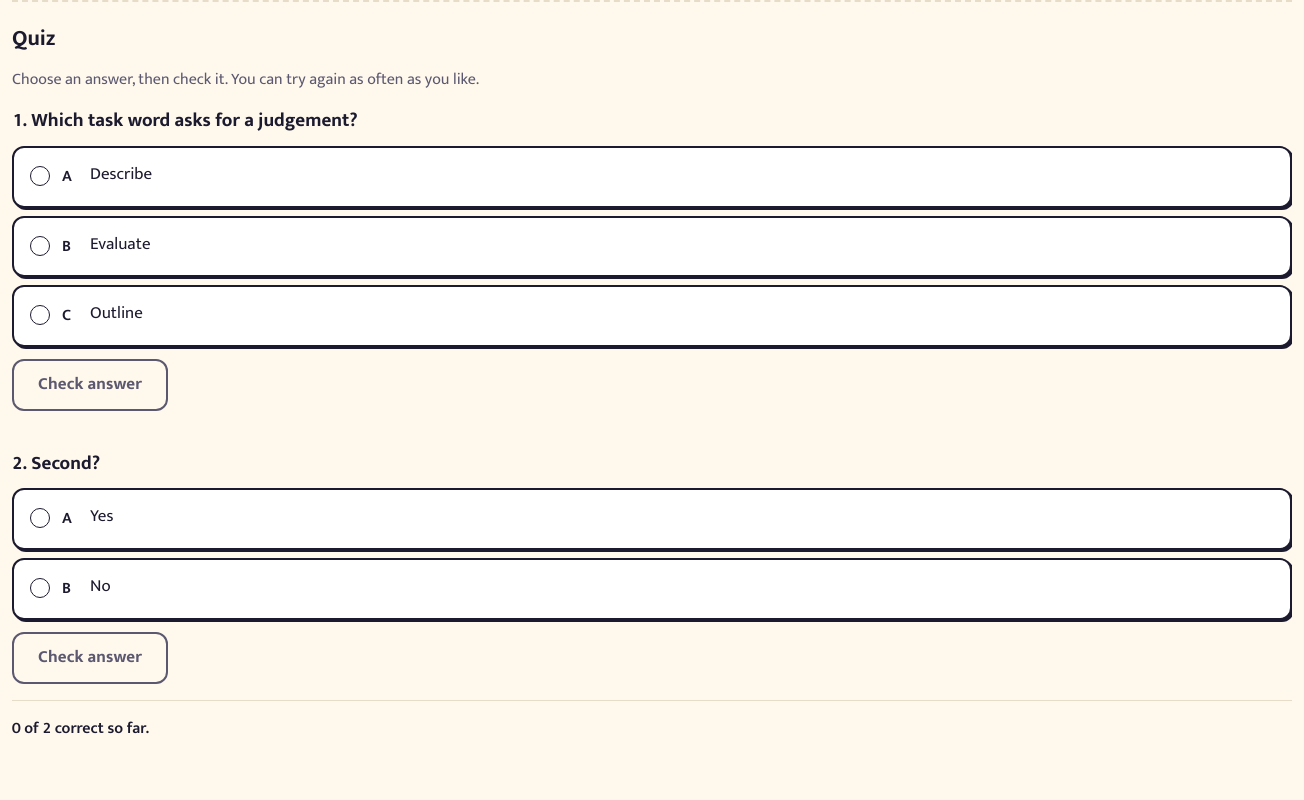
Scenario: Quiz › gives immediate feedback with words, allows retry, and then accepts the right answer
Click the radio button labelled "A Describe" at (121, 174), box [12,146,1292,208]
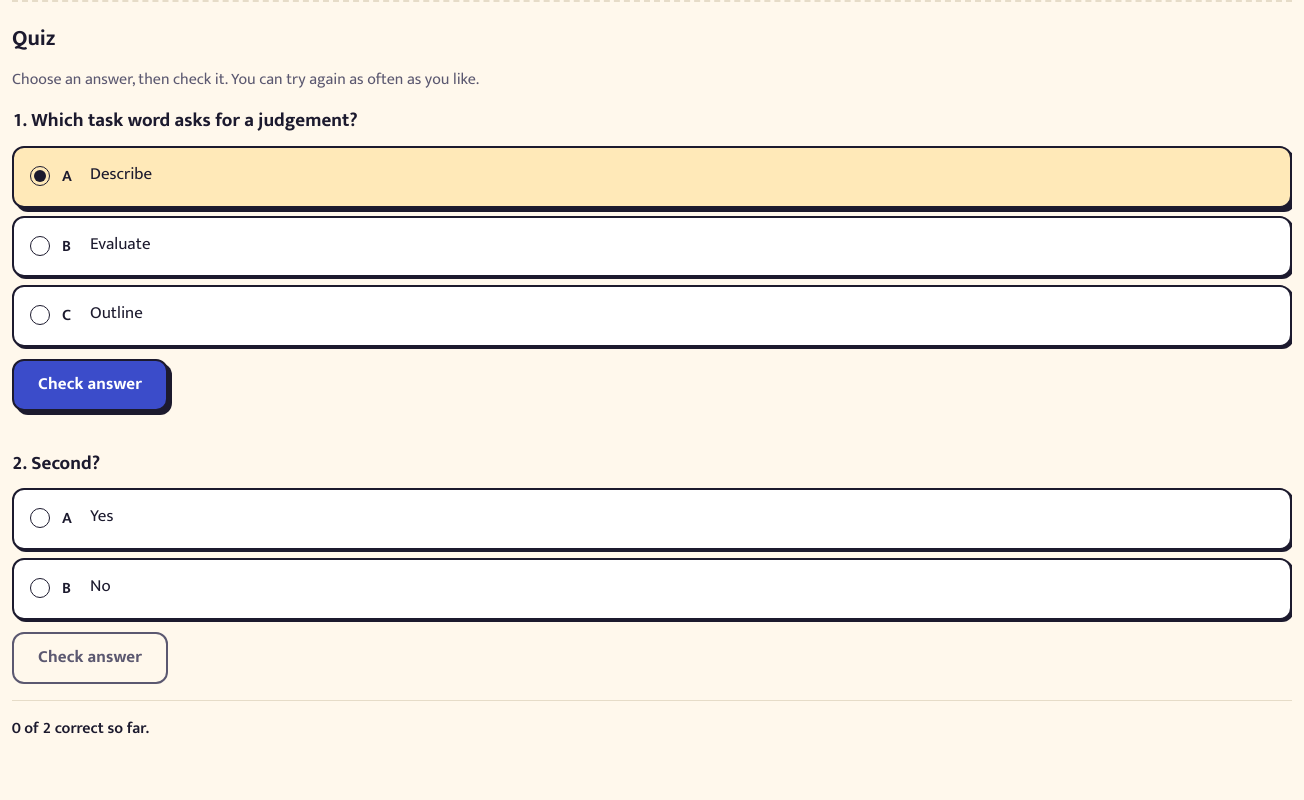
Click the button "Check answer" below "Which task word asks for a judgement?" at (90, 385), box [12,359,168,411]
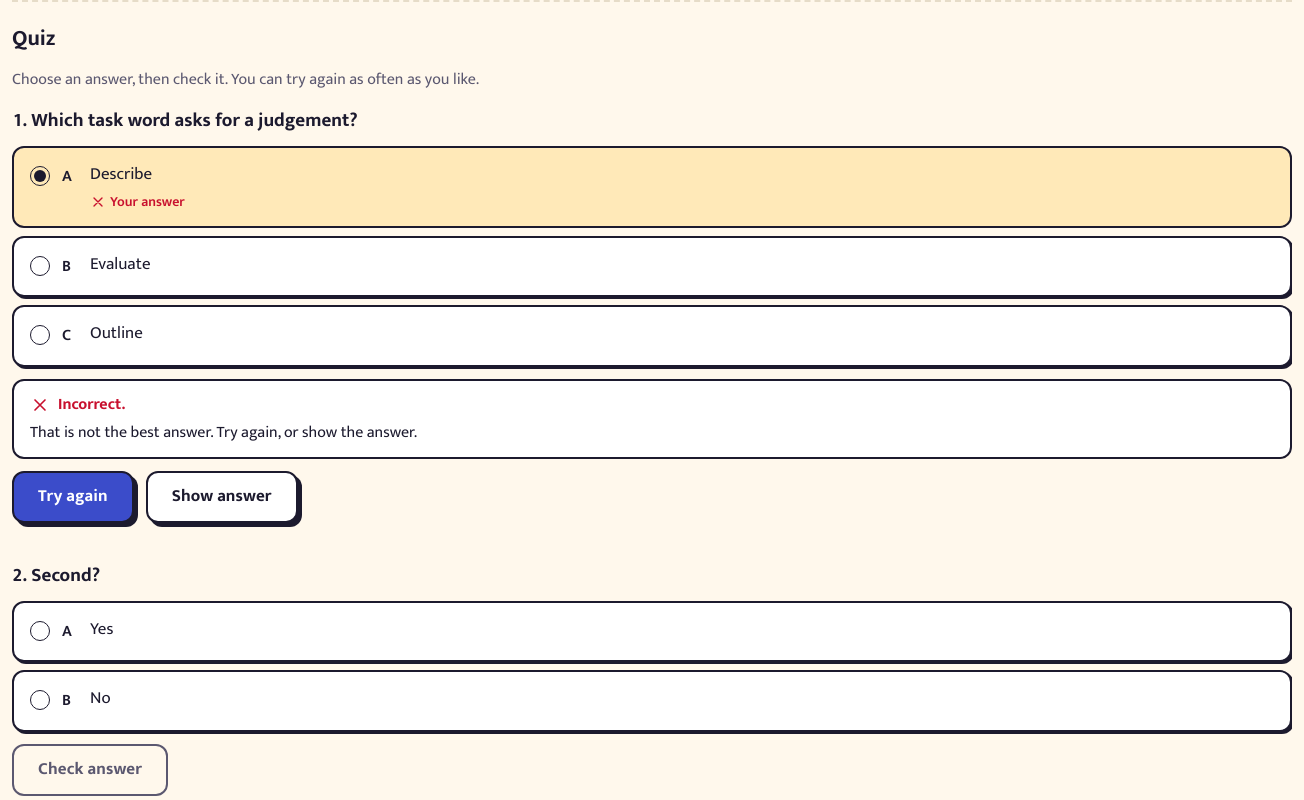
Check: the message shows "Incorrect.", box [58,391,125,418]
Check: the text "Your answer" is shown, box [90,190,185,212]
Click the button "Try again" at (73, 497), box [12,471,134,523]
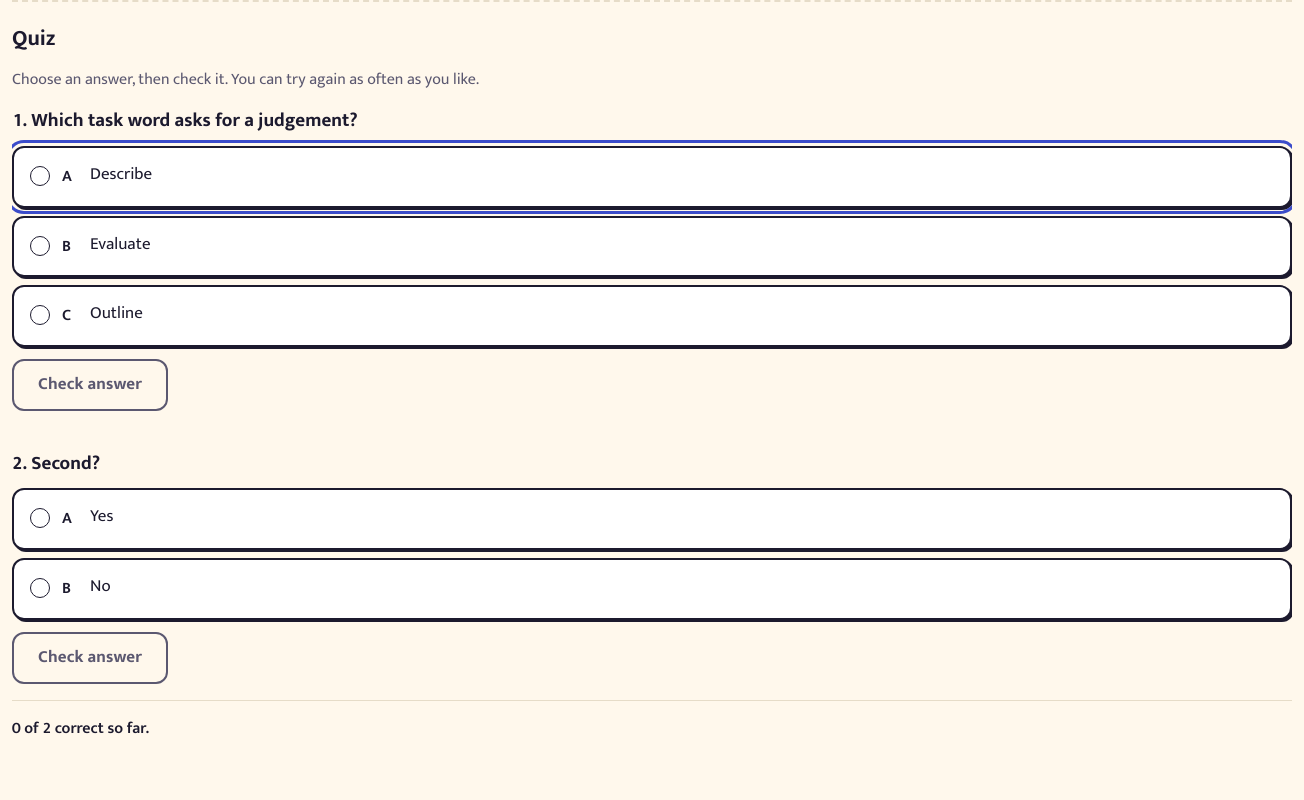
Click the radio button labelled "B Evaluate" at (120, 244), box [12,216,1292,277]
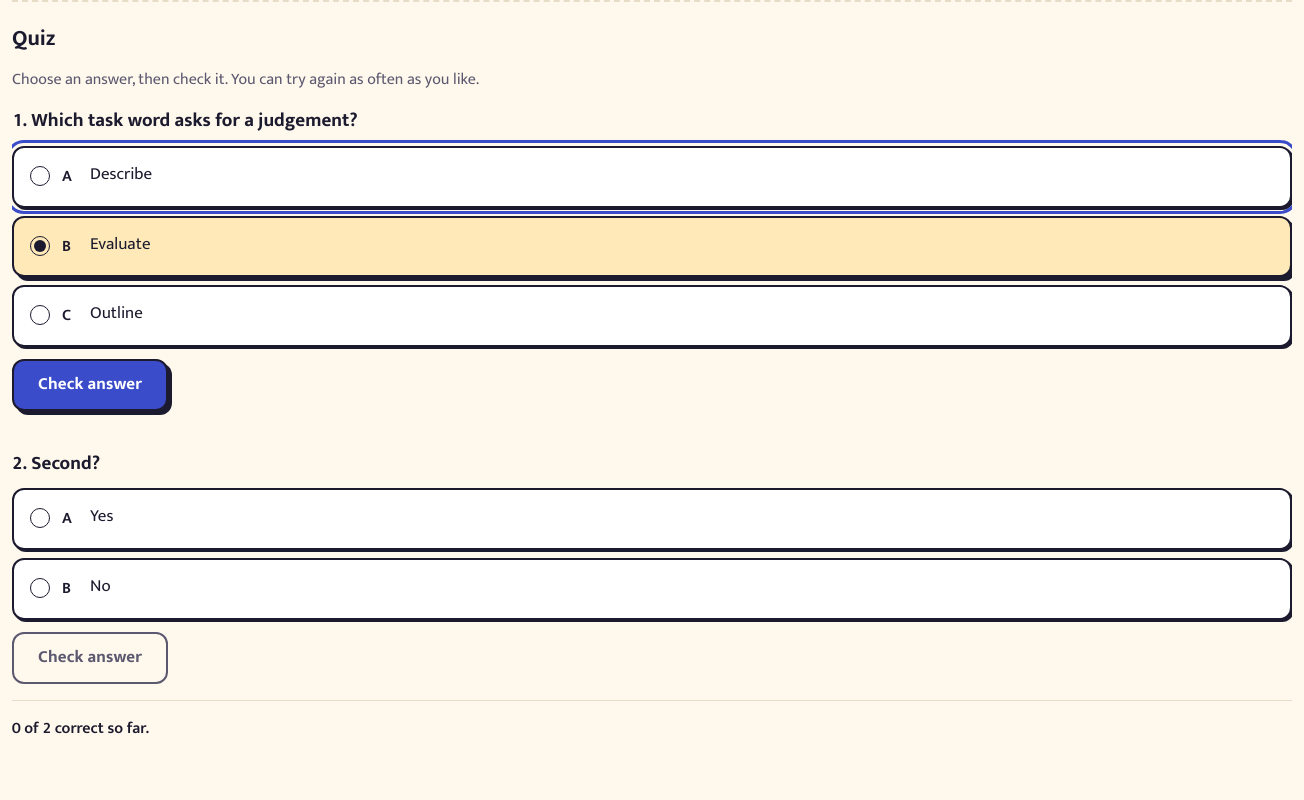
Click the button "Check answer" below "Which task word asks for a judgement?" at (90, 385), box [12,359,168,411]
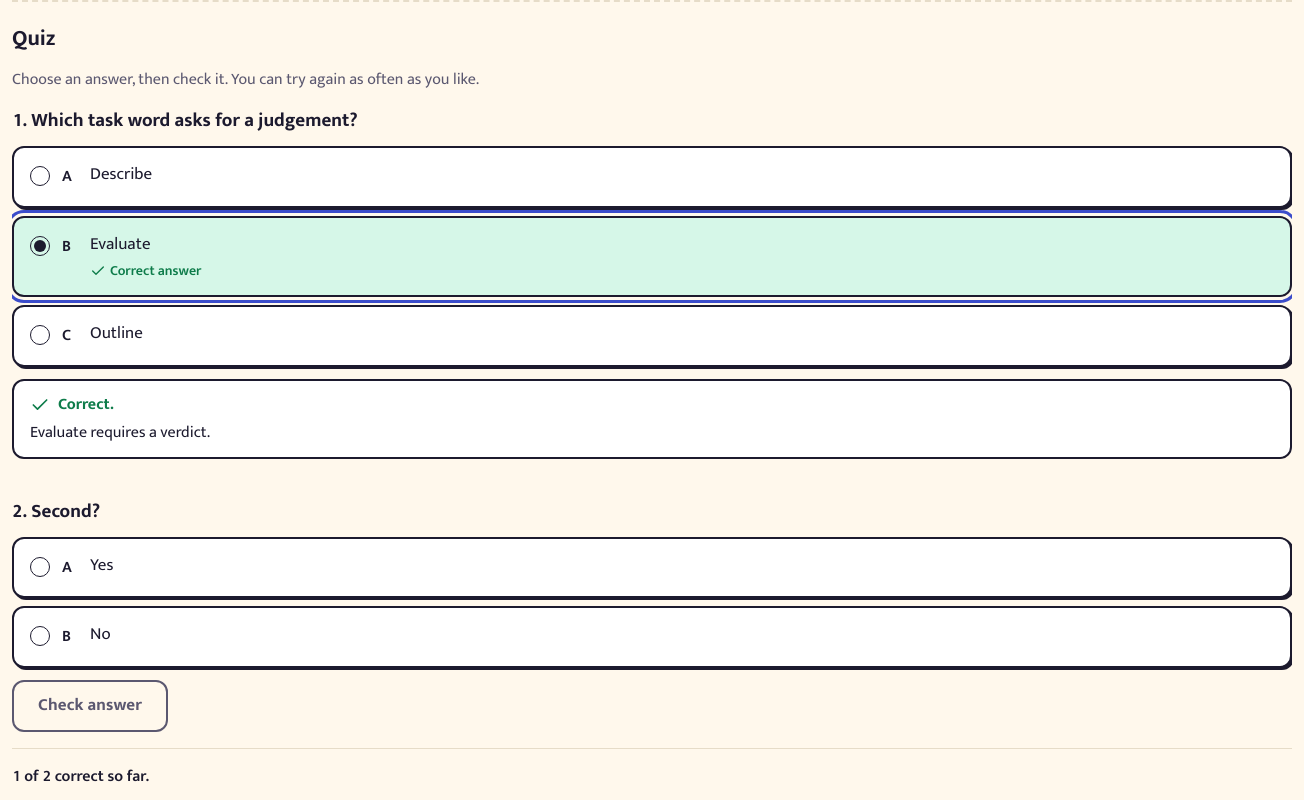
Check: the message reads "Correct. Evaluate requires a verdict.", box [12,379,1292,459]
Check: the text "1 of 2 correct so far." is shown, box [12,748,1292,789]
